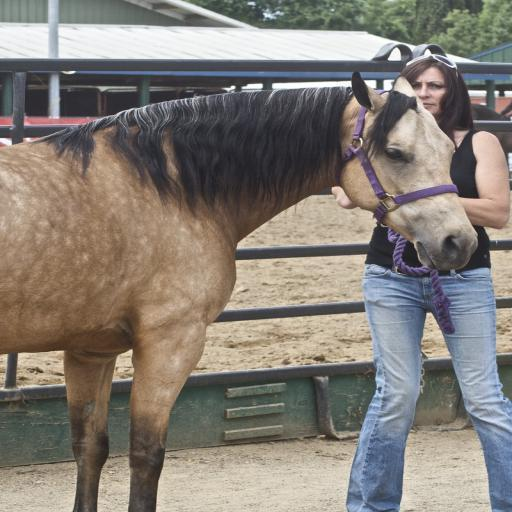horse: (0, 69, 482, 512)
